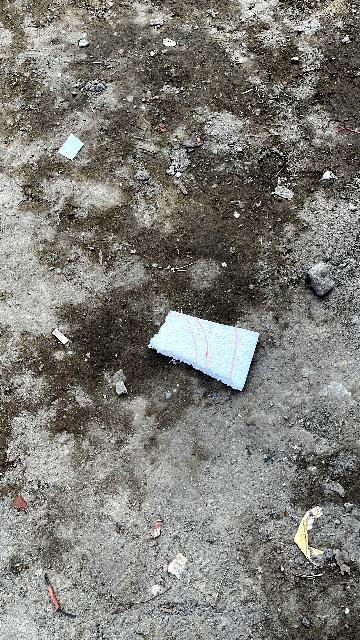cocksheet: (145, 304, 274, 403)
